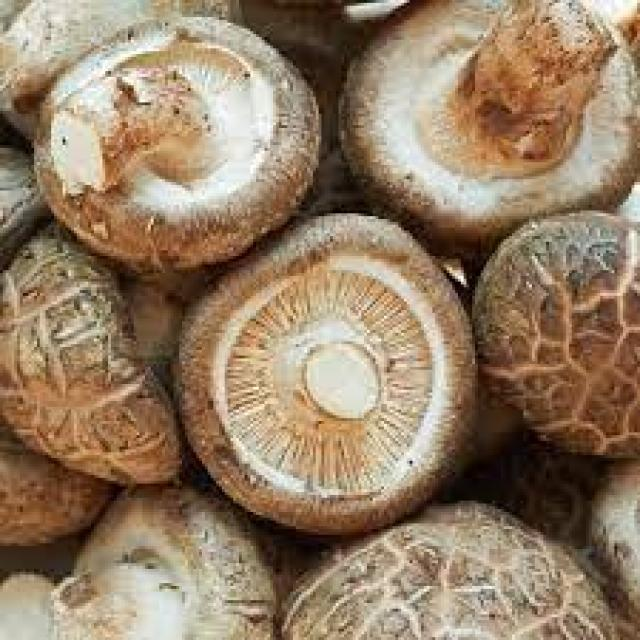mushroom: (176, 216, 478, 536), (341, 3, 640, 257), (34, 16, 319, 272)
